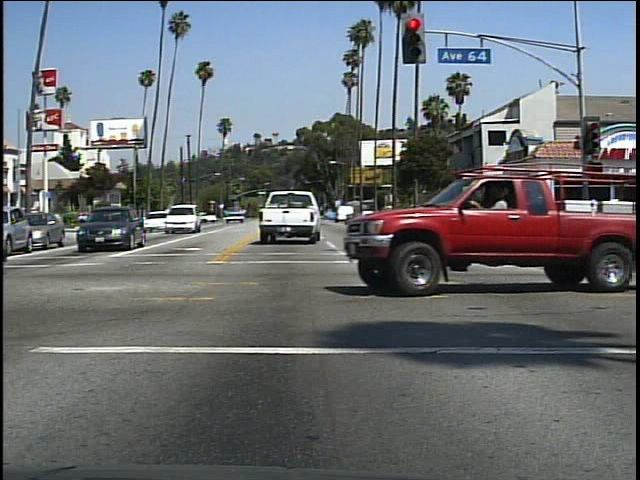person: (481, 179, 521, 296), (476, 199, 502, 236)
